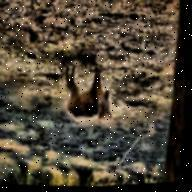boar: (59, 62, 118, 129)
